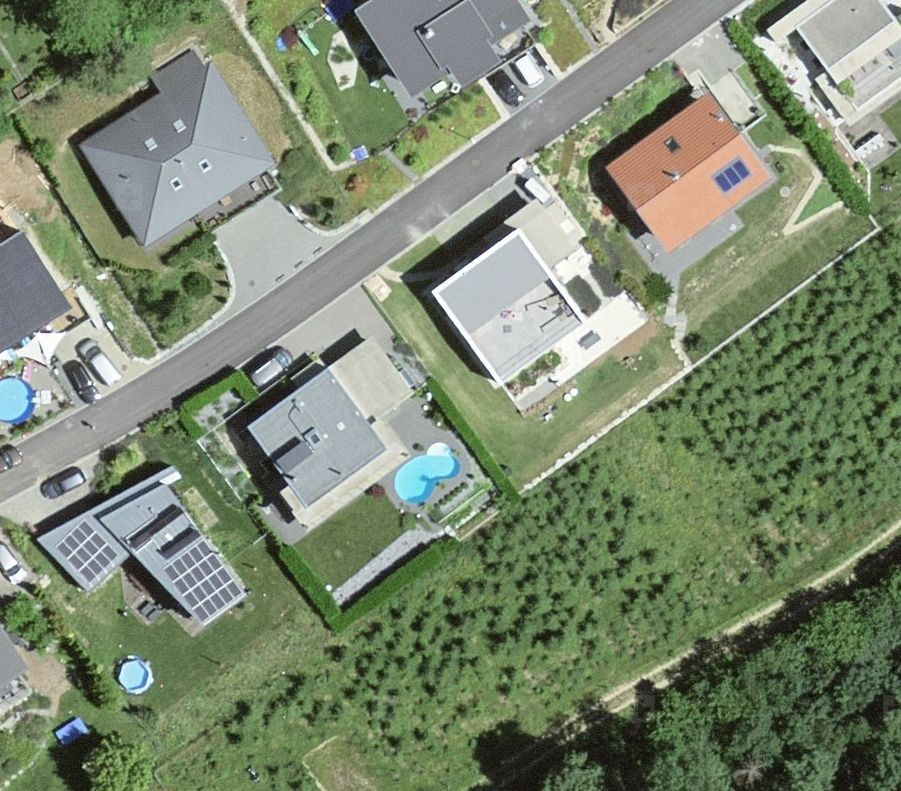solar: (160, 537, 242, 626), (58, 521, 117, 588), (705, 150, 757, 200)
